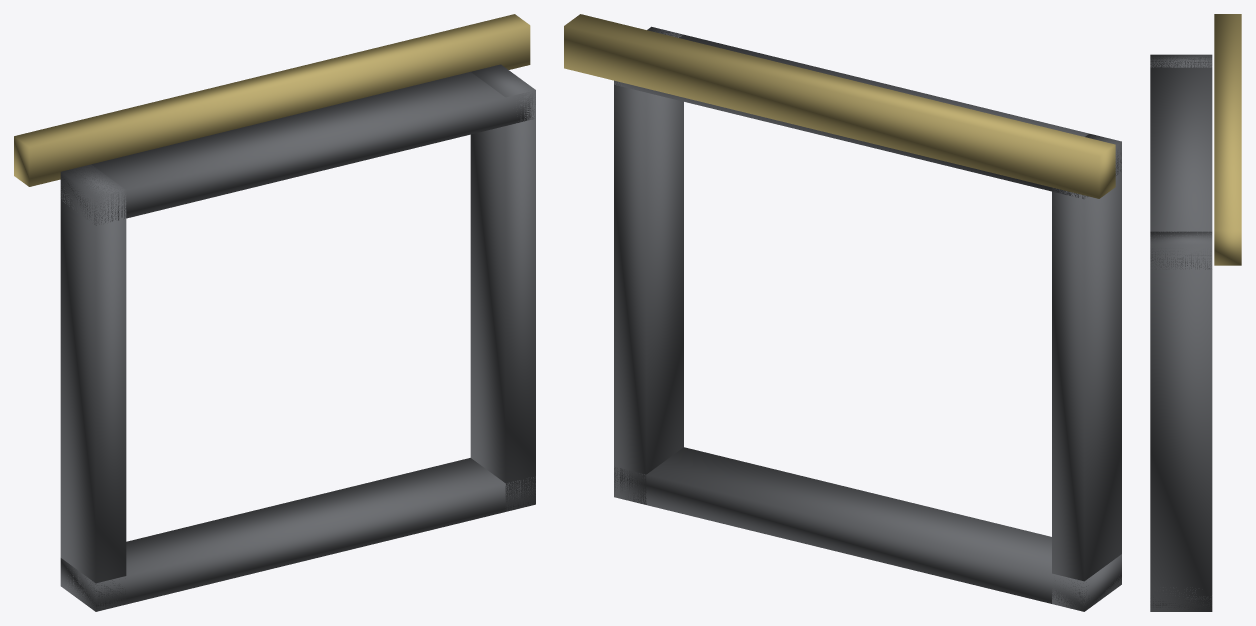
File: egress_window_motel_w100_h90_s55_d16.glb
The picture shows the model from 3 angles, left to right: view 1: azimuth 30°, elevation 25°; view 2: azimuth 150°, elevation 25°; view 3: azimuth 270°, elevation 25°; orthographic projection. The views are drawn at different scales.
Parts seen in each view (by area): view 1: world; view 2: world; view 3: world.
Boxes of the visible parts, left/top/right/bottom form: world: left=14, top=14, right=535, bottom=611; world: left=564, top=14, right=1121, bottom=611; world: left=1150, top=14, right=1241, bottom=611.
Size of the model in its own units: 1.32 by 1.12 by 0.235.
